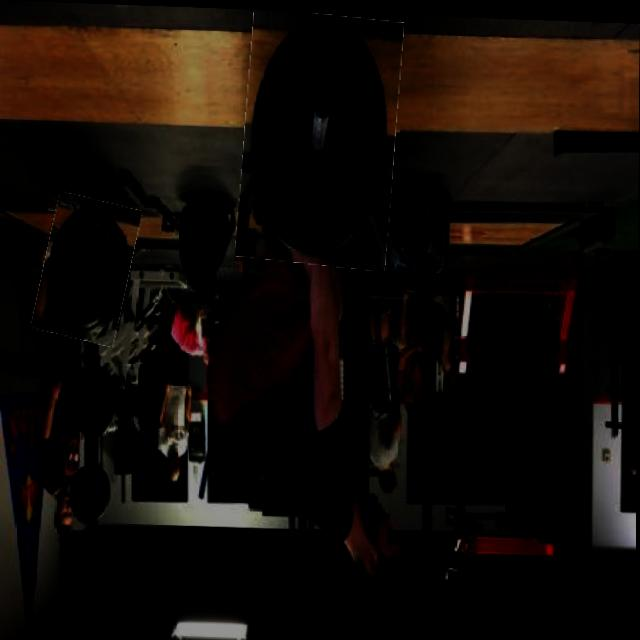barbell: (241, 8, 401, 268), (39, 194, 138, 344)
